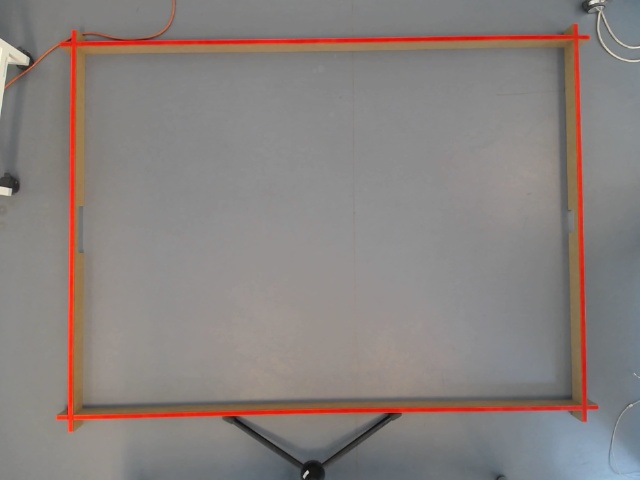big_goal: (70, 204, 88, 254)
small_goal: (564, 207, 584, 234)
wall: (55, 392, 602, 420), (558, 21, 591, 423), (59, 33, 590, 56), (67, 26, 89, 431)
